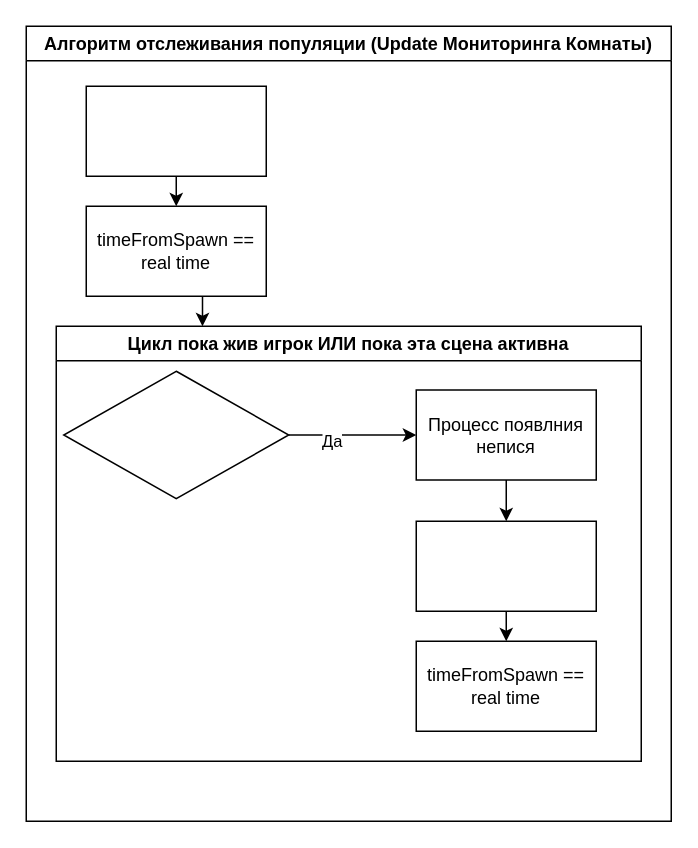
This 698x848 diagram has some shape labels left out. The box of each missing label's shape, as (x1, y1, x2, y2) in pixels:
real time == timeFromSpawn + timeToSpawn: (62, 370, 289, 499)
timeToSpawn = 3: (85, 85, 266, 176)
timeToSpawn = 5: (415, 520, 596, 611)
